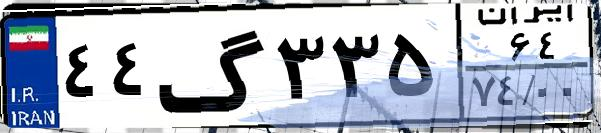0: (560, 70, 590, 125), (535, 70, 560, 125)
3: (270, 28, 330, 110), (330, 28, 385, 110)
4: (57, 26, 110, 100), (110, 28, 156, 98), (537, 27, 568, 80), (495, 70, 520, 125)
5: (385, 28, 445, 110)
6: (508, 27, 537, 80)
7: (470, 70, 495, 125)
گ: (156, 12, 270, 120)
